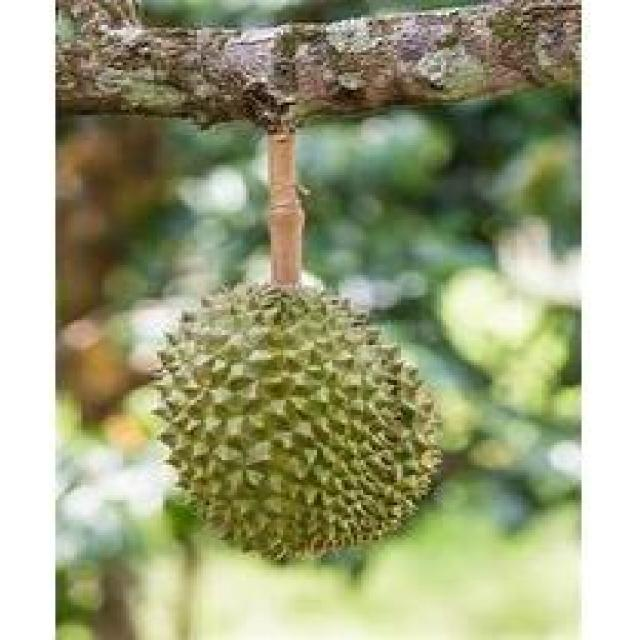fruit: (130, 260, 458, 590)
